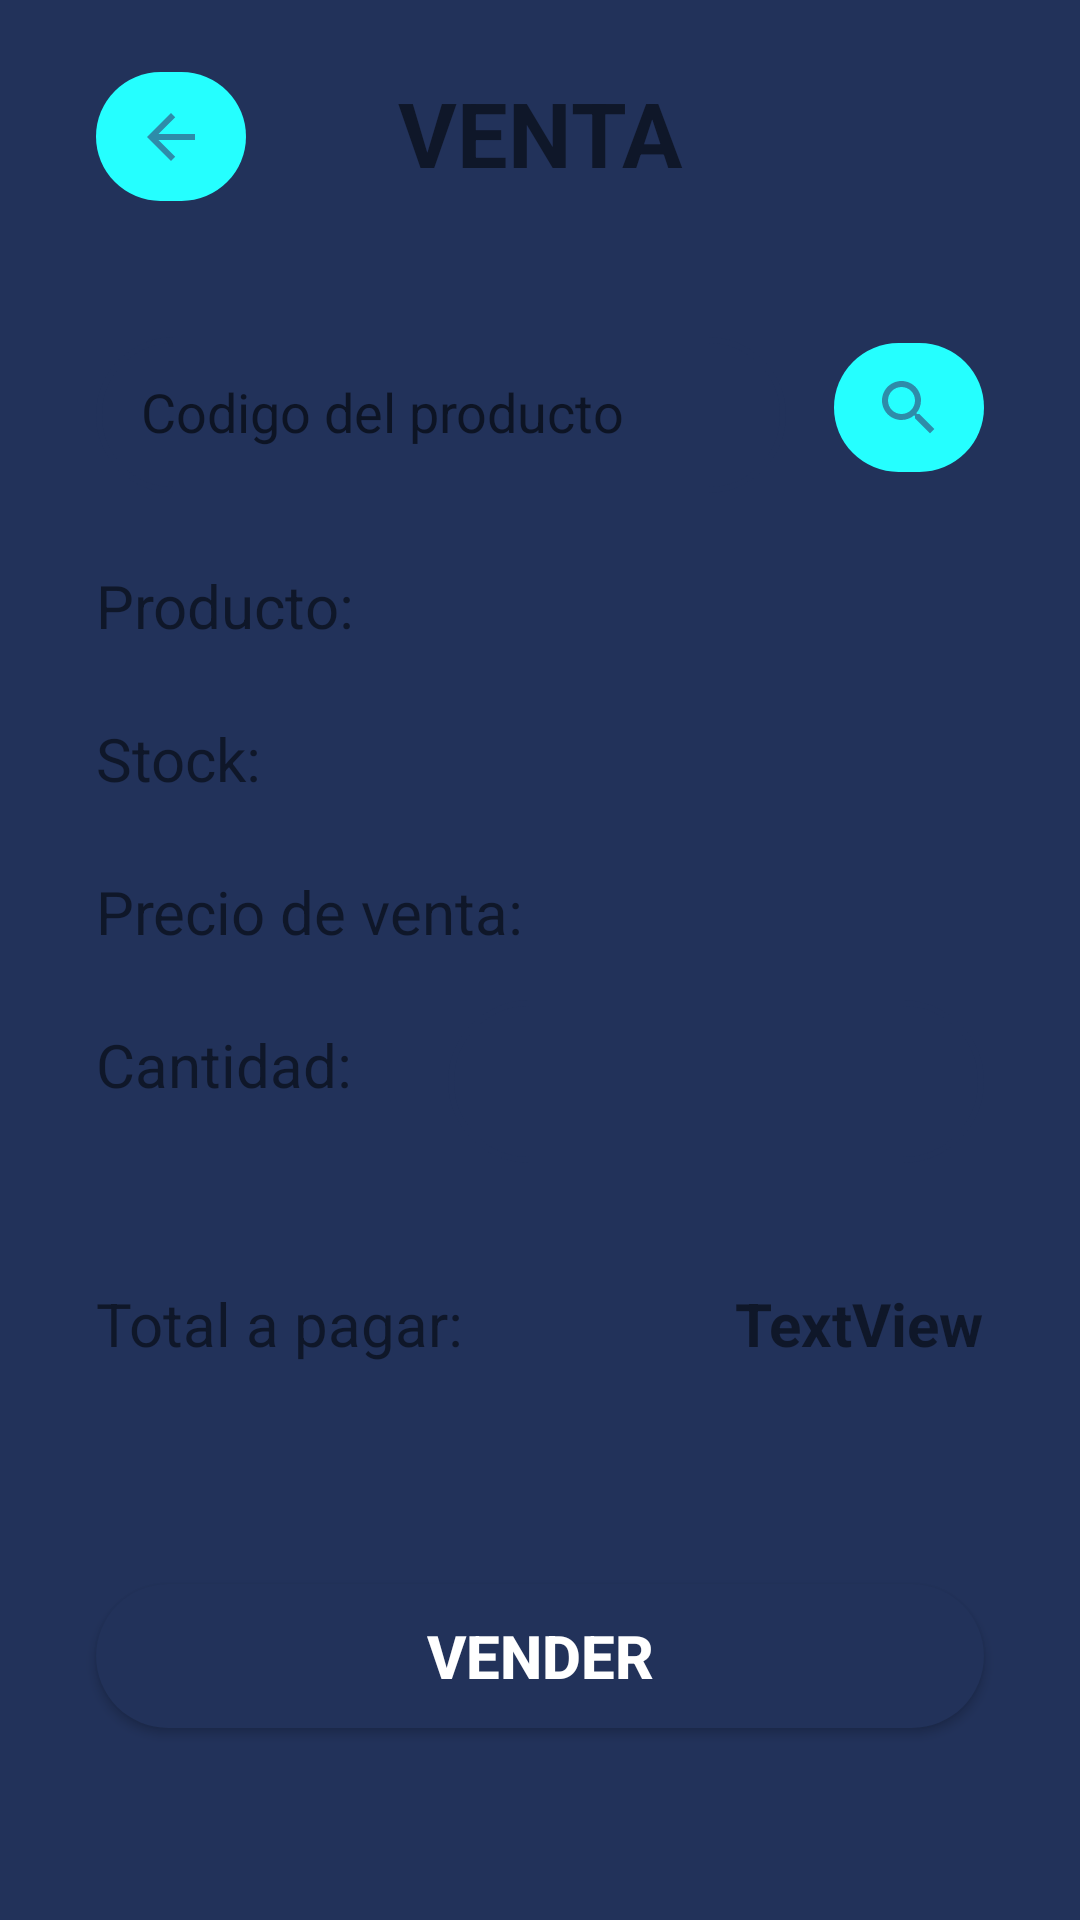

Where icons sit on this 1080px×1920px app screen, as [x1=x1, y1=y1, x2=x2, y2=y2]:
buscar: [x1=834, y1=343, x2=984, y2=472]
volver: [x1=96, y1=72, x2=246, y2=201]
